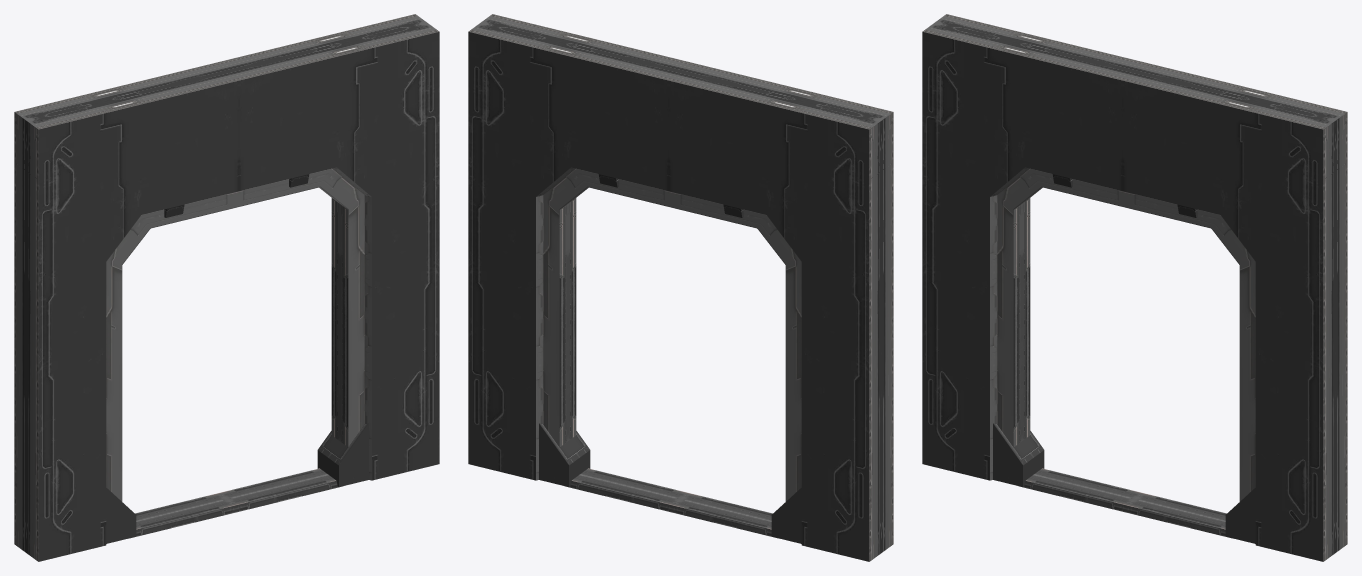
File: Door_Frame_Square.glb
3 views of the same model, side by side, from view 1: azimuth 30°, elevation 25°; view 2: azimuth 150°, elevation 25°; view 3: azimuth 330°, elevation 25° (orthographic).
Parts seen in each view (by area): view 1: Door_Frame_Square; view 2: Door_Frame_Square; view 3: Door_Frame_Square.
Boxes of the visible parts, x1,y1,x2,y2 form: Door_Frame_Square: (14, 14, 439, 561); Door_Frame_Square: (468, 14, 893, 561); Door_Frame_Square: (922, 14, 1347, 561).
Size of the model in its own units: 4.85 by 5.01 by 0.5067.
1 material, 1 textured.
